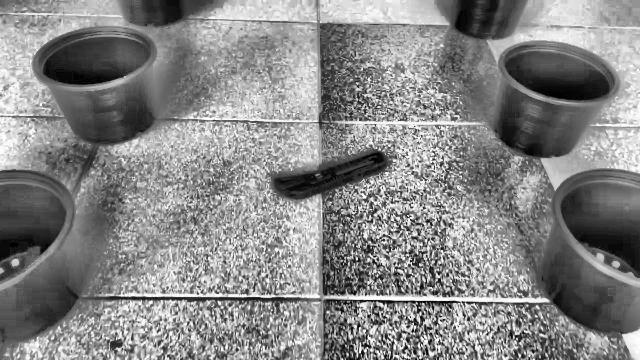pot: (539, 170, 640, 334), (492, 41, 621, 160), (32, 26, 158, 146), (0, 170, 84, 342)
